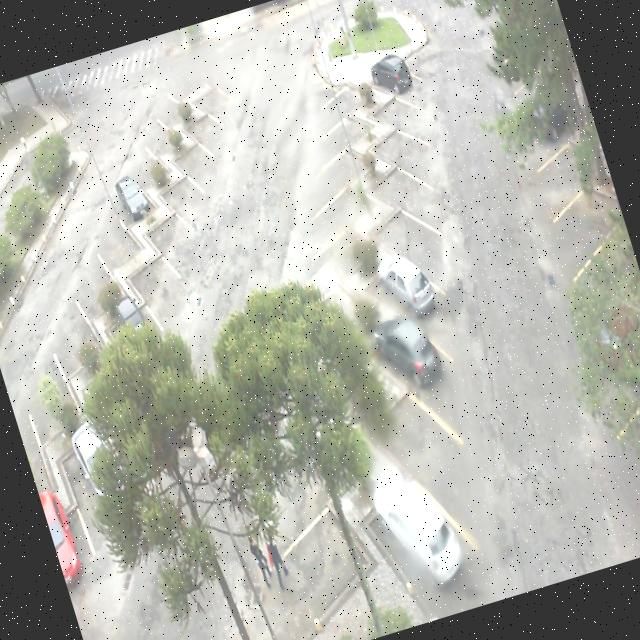empty: (267, 488, 393, 628), (354, 354, 468, 501), (364, 188, 444, 284), (361, 137, 437, 225), (41, 282, 109, 378), (296, 206, 376, 286), (360, 100, 434, 182), (302, 164, 378, 236), (302, 120, 378, 190), (123, 233, 184, 316), (64, 242, 127, 322), (364, 72, 434, 142), (137, 192, 196, 266), (153, 152, 211, 226), (86, 198, 144, 272), (305, 90, 374, 148), (118, 126, 170, 193), (174, 87, 228, 151), (132, 99, 184, 163), (164, 121, 217, 182), (184, 64, 236, 122), (318, 64, 373, 112), (147, 75, 194, 131)
occupied: (353, 450, 478, 612), (355, 228, 452, 346), (364, 301, 460, 414), (368, 44, 427, 104), (103, 160, 155, 224)
